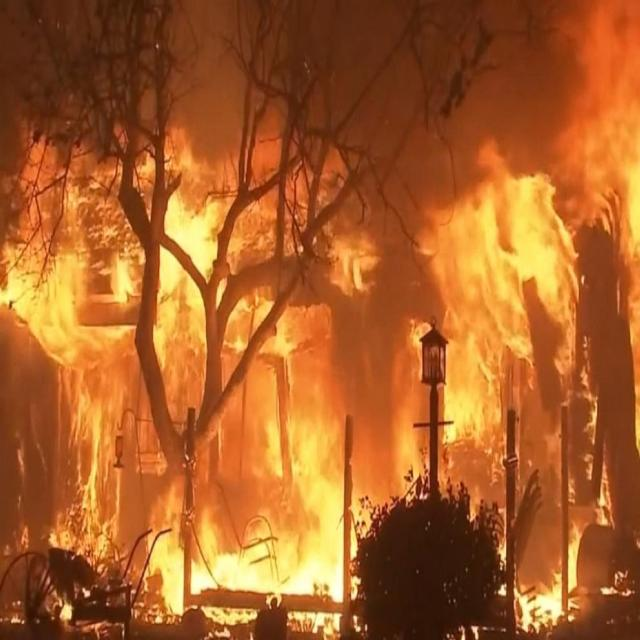fire: (44, 190, 202, 490), (220, 234, 334, 584), (447, 199, 548, 365)
